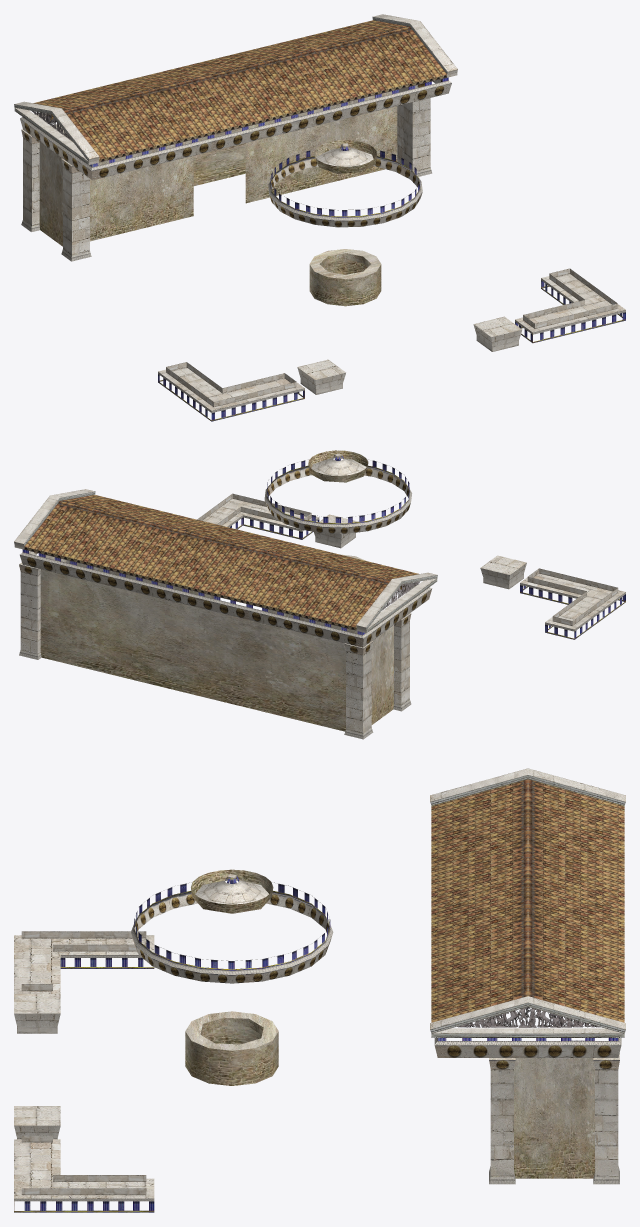
Rendered from hele_civic_struct.dae.
3 views of the same model, one above another, from view 1: azimuth 30°, elevation 25°; view 2: azimuth 150°, elevation 25°; view 3: azimuth 270°, elevation 25° (orthographic). The views are drawn at different scales.
Visible parts, largest first — view 1: material1-Pivot; view 2: material1-Pivot; view 3: material1-Pivot.
Part boxes in pixels (<box>): material1-Pivot: <box>14,14,625,421</box>; material1-Pivot: <box>14,450,625,739</box>; material1-Pivot: <box>14,768,625,1212</box>.
Size of the model in its own units: 28.84 by 28.32 by 10.81.
